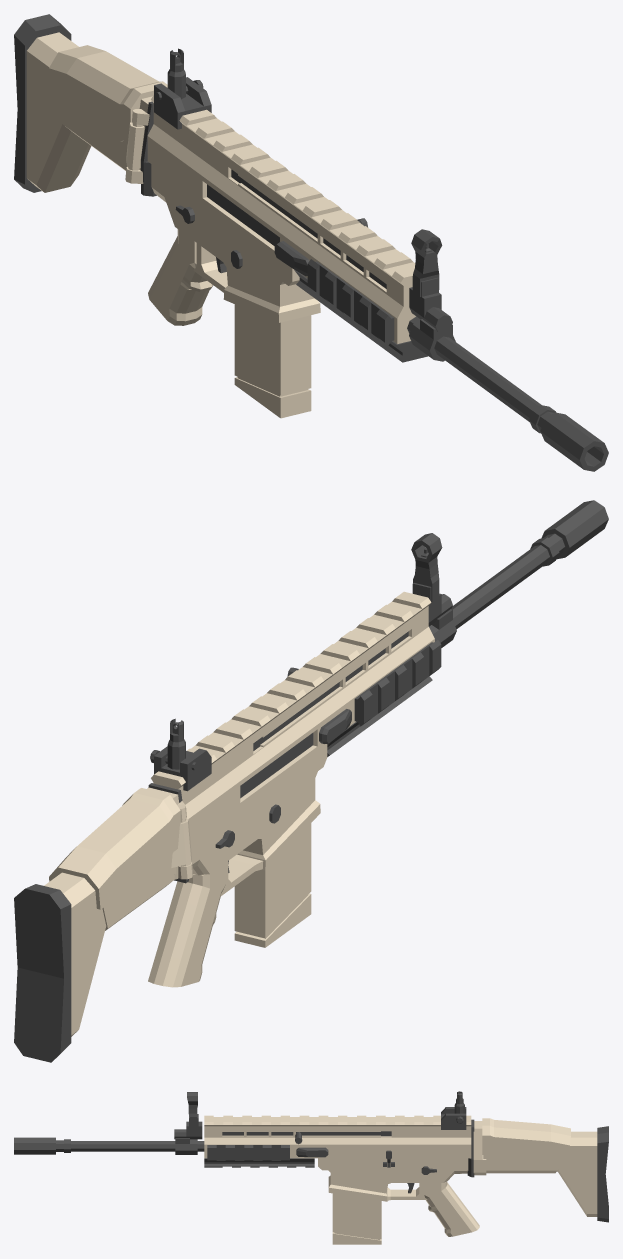
File: scar.glb
The picture shows the model from 3 angles, top to bottom: view 1: azimuth 30°, elevation 25°; view 2: azimuth 150°, elevation 25°; view 3: azimuth 270°, elevation 25°; orthographic projection. The views are drawn at different scales.
Parts seen in each view (by area): view 1: Cube, Cube.001, Cube.004, Cube.008, Cube.010, Cylinder, Cube.002, Cube.013, Cube.022, Cylinder.001, Cube.009, Cube.015 (+9 smaller); view 2: Cube, Cube.022, Cube.010, Cube.001, Cube.004, Cube.002, Cylinder, Cube.008, Cube.013, Cube.009, Cube.006, Cylinder.001 (+7 smaller); view 3: Cube, Cube.001, Cube.010, Cube.008, Cube.004, Cylinder, Cube.002, Cube.013, Cube.009, Cube.022, Cube.012, Cylinder.001 (+7 smaller).
Part boxes in pixels (x1=…): Cube: x1=147, y1=95, x2=415, y2=343; Cube.001: x1=151, y1=164, x2=320, y2=322; Cube.004: x1=234, y1=304, x2=311, y2=418; Cube.008: x1=26, y1=32, x2=91, y2=192; Cube.010: x1=49, y1=45, x2=167, y2=143; Cylinder: x1=407, y1=316, x2=608, y2=471; Cube.002: x1=148, y1=229, x2=213, y2=325; Cube.013: x1=307, y1=259, x2=394, y2=345; Cube.022: x1=14, y1=14, x2=71, y2=192; Cylinder.001: x1=409, y1=276, x2=455, y2=361; Cube.009: x1=58, y1=97, x2=127, y2=170; Cube.015: x1=154, y1=77, x2=211, y2=129; Cube: x1=151, y1=591, x2=434, y2=842; Cube.022: x1=14, y1=884, x2=71, y2=1062; Cube.010: x1=49, y1=788, x2=180, y2=909; Cube.001: x1=190, y1=744, x2=327, y2=875; Cube.004: x1=234, y1=823, x2=311, y2=947; Cube.002: x1=148, y1=863, x2=225, y2=987; Cylinder: x1=451, y1=500, x2=608, y2=629; Cube.008: x1=44, y1=867, x2=176, y2=1036; Cube.013: x1=354, y1=640, x2=441, y2=726; Cube.009: x1=102, y1=854, x2=174, y2=930; Cube.006: x1=411, y1=533, x2=442, y2=602; Cylinder.001: x1=412, y1=583, x2=456, y2=647; Cube: x1=204, y1=1115, x2=471, y2=1158; Cube.001: x1=318, y1=1158, x2=468, y2=1201; Cube.010: x1=482, y1=1118, x2=570, y2=1156; Cube.008: x1=483, y1=1131, x2=597, y2=1216; Cube.004: x1=332, y1=1193, x2=381, y2=1244; Cylinder: x1=14, y1=1137, x2=204, y2=1154; Cube.002: x1=424, y1=1181, x2=479, y2=1236; Cube.013: x1=207, y1=1145, x2=289, y2=1160; Cube.009: x1=486, y1=1155, x2=562, y2=1173; Cube.022: x1=597, y1=1126, x2=608, y2=1222; Cube.012: x1=204, y1=1158, x2=314, y2=1167; Cylinder.001: x1=174, y1=1114, x2=202, y2=1154.
Size of the model in its own units: 1.06 by 4 by 14.55.
